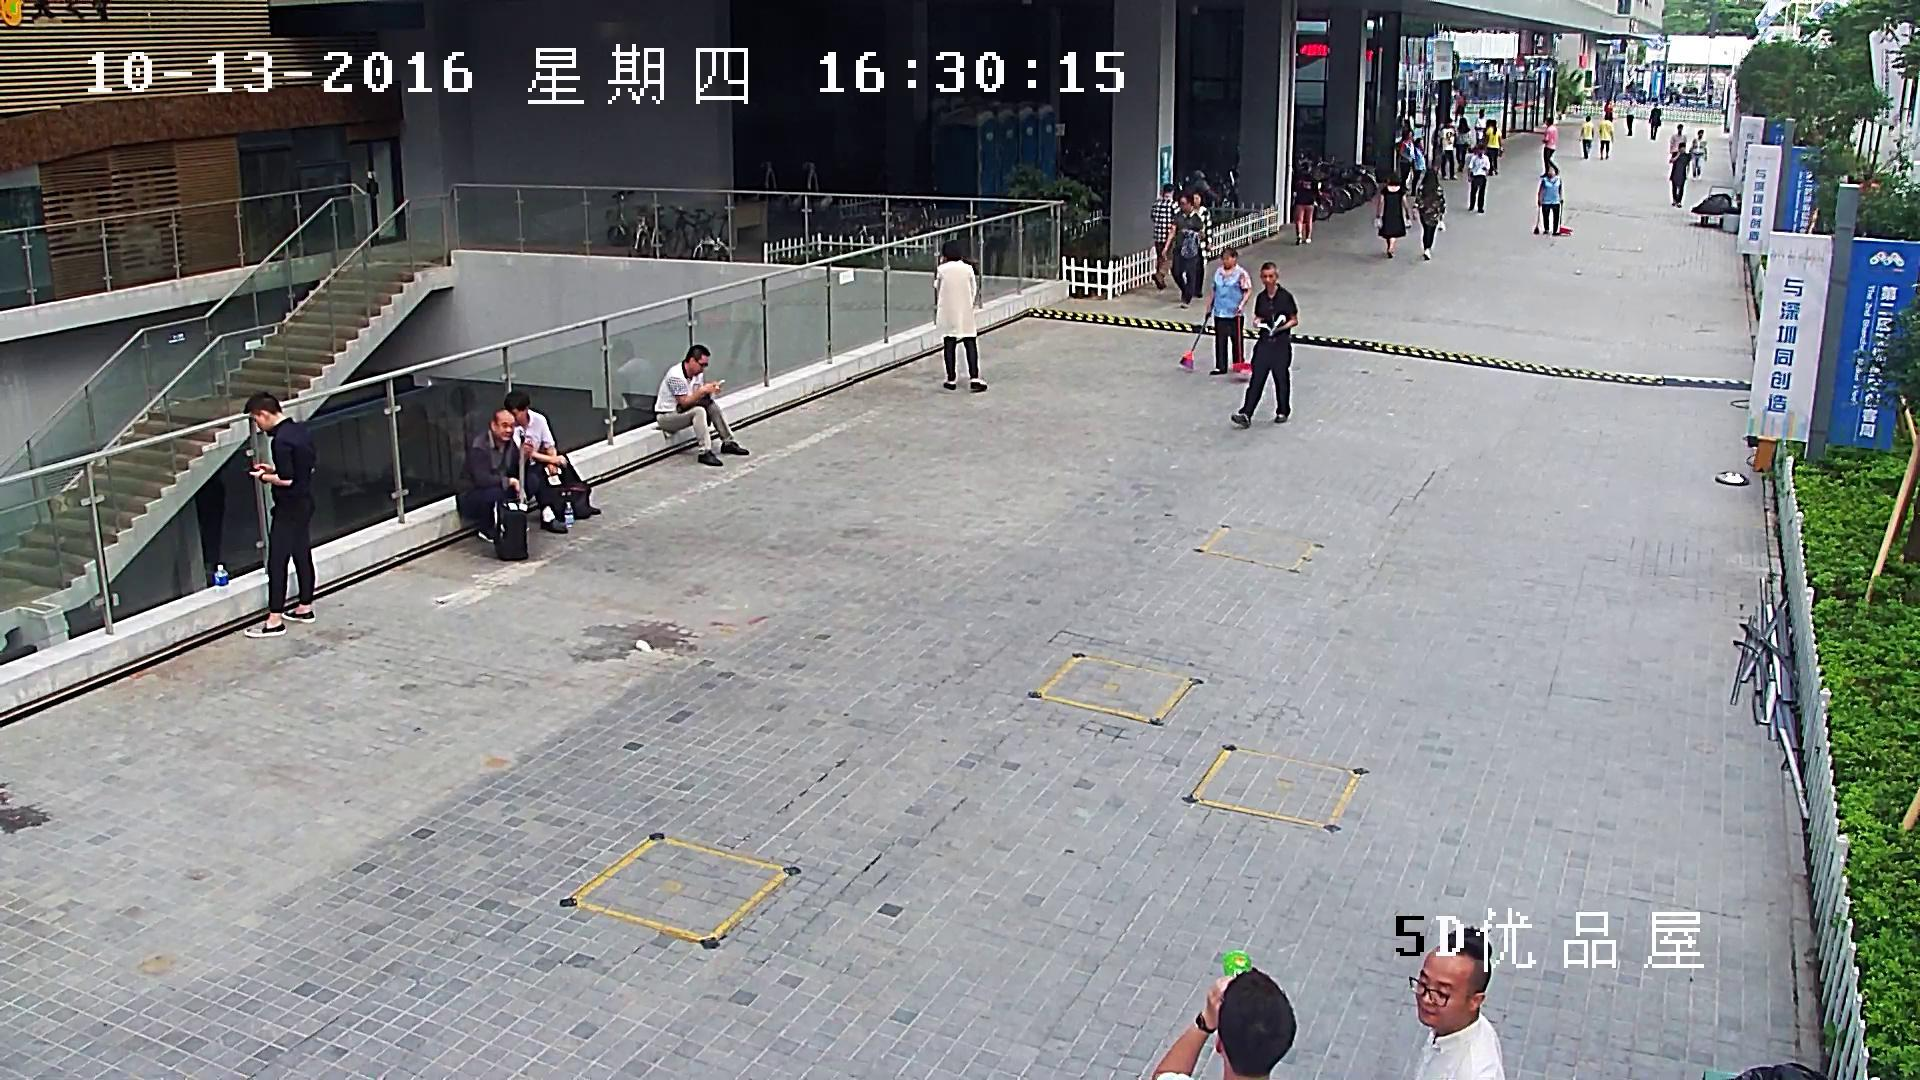person: (246, 391, 314, 637), (1408, 926, 1505, 1079), (504, 390, 600, 533), (654, 344, 748, 466), (1232, 262, 1297, 427), (455, 410, 527, 543), (1178, 246, 1252, 377), (932, 240, 986, 392), (1206, 247, 1251, 374), (1162, 194, 1203, 308), (606, 338, 656, 432), (1373, 171, 1410, 257), (1412, 168, 1445, 259), (1151, 184, 1179, 289), (1532, 164, 1572, 235), (1182, 190, 1212, 281), (1292, 162, 1317, 245), (1538, 164, 1562, 235), (1468, 144, 1490, 213), (1436, 117, 1457, 179), (1669, 142, 1689, 208), (1397, 127, 1415, 190), (1483, 119, 1503, 175), (1540, 117, 1559, 178), (1689, 129, 1706, 180), (1453, 117, 1469, 171), (1669, 123, 1686, 167), (1597, 116, 1613, 160), (1578, 116, 1594, 158), (1413, 138, 1424, 196), (1431, 121, 1443, 173), (1648, 103, 1661, 140), (1475, 107, 1487, 145), (1454, 89, 1465, 120), (1626, 100, 1634, 136), (1603, 98, 1613, 122), (1706, 79, 1713, 105), (1667, 82, 1674, 102), (1675, 82, 1682, 96)
